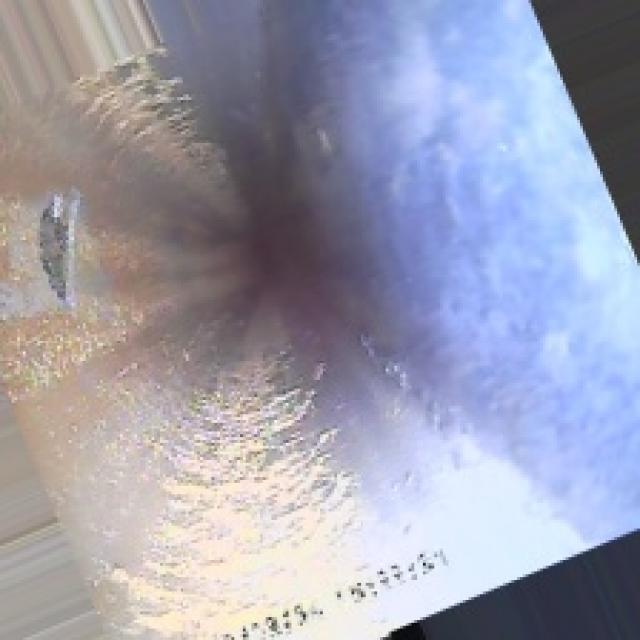pipe_surface_damage: (26, 180, 86, 311)
